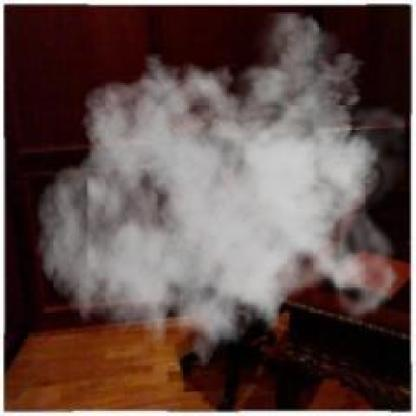Smoke: (36, 13, 404, 382)
